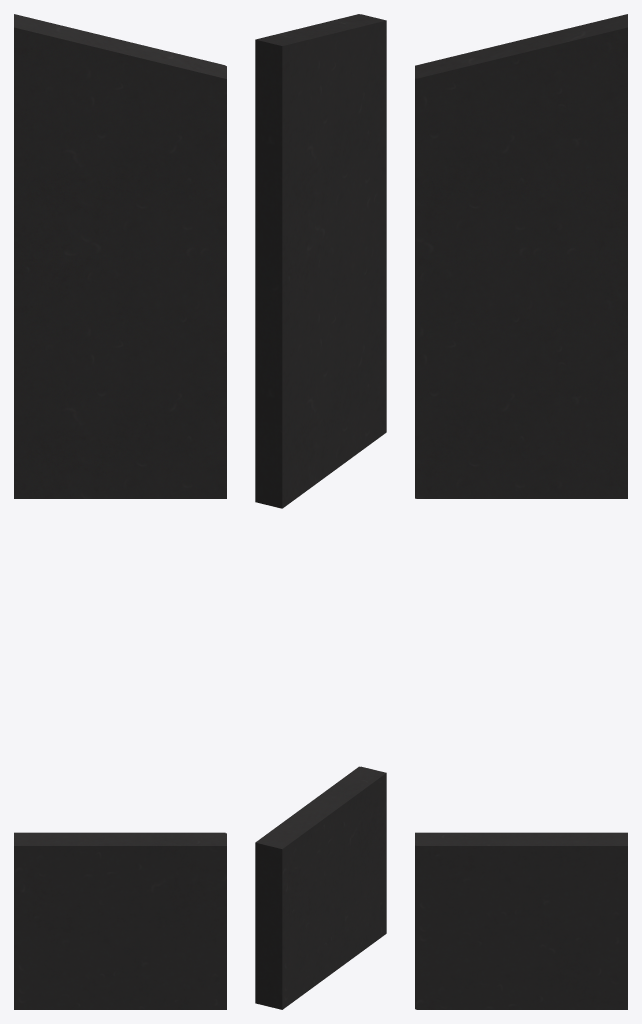
The model's file is A13.1.1 H.WALL. PNL 2446 UP + 850 DWN E5.fbx.
3 views of the same model, side by side, from view 1: azimuth 90°, elevation 25°; view 2: azimuth 150°, elevation 25°; view 3: azimuth 270°, elevation 25° (orthographic).
Parts seen in each view (by area): view 1: Model, Group1; view 2: Model, Group1; view 3: Model, Group1.
Part boxes in pixels (left/top/right/bottom): Model: left=14, top=14, right=226, bottom=498; Group1: left=14, top=832, right=226, bottom=1009; Model: left=255, top=14, right=386, bottom=508; Group1: left=255, top=766, right=386, bottom=1009; Model: left=415, top=14, right=627, bottom=498; Group1: left=415, top=832, right=627, bottom=1009.
Bounding box in the file's own units: 150 × 5096 × 1000.
